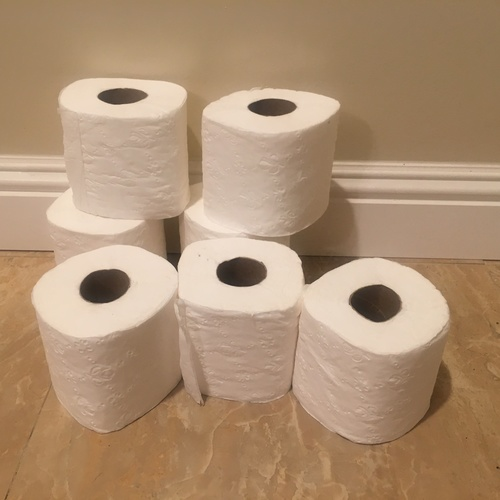roll: (292, 258, 448, 445), (32, 245, 178, 432), (176, 238, 304, 402), (201, 87, 340, 236), (58, 78, 188, 220), (47, 185, 168, 264), (180, 185, 288, 251)
